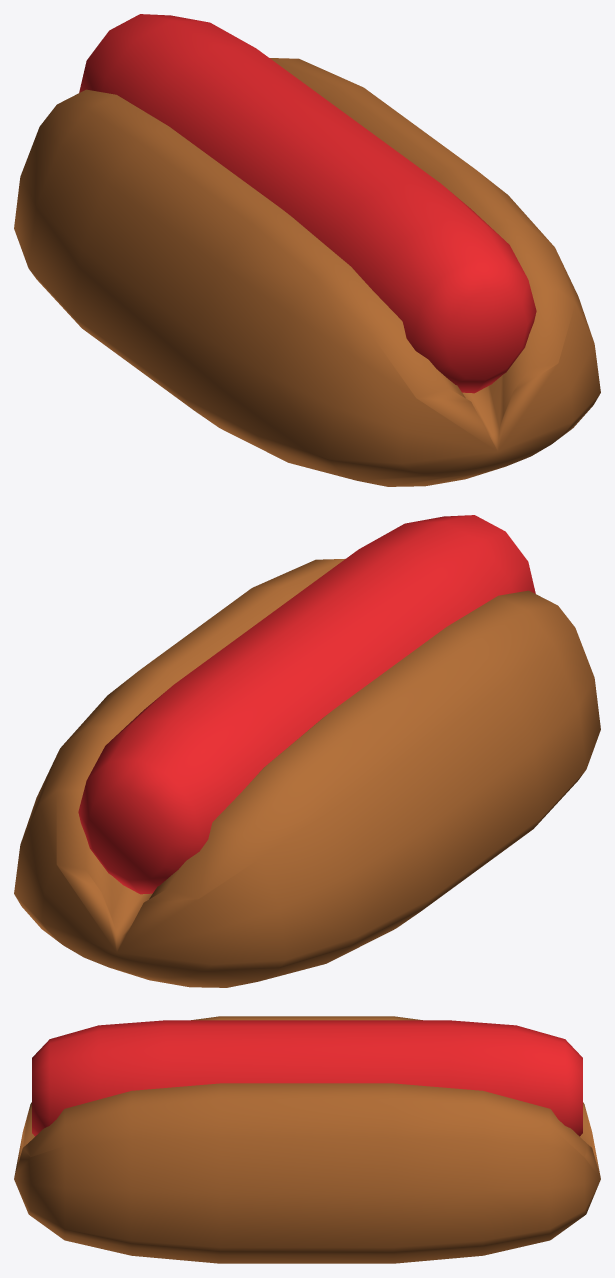
File: perro.fbx
The picture shows the model from 3 angles, top to bottom: view 1: azimuth 30°, elevation 25°; view 2: azimuth 150°, elevation 25°; view 3: azimuth 270°, elevation 25°; orthographic projection. The views are drawn at different scales.
Parts seen in each view (by area): view 1: Cylinder.024, Cylinder.025; view 2: Cylinder.024, Cylinder.025; view 3: Cylinder.024, Cylinder.025.
Boxes of the visible parts, x1,y1,x2,y2 form: Cylinder.024: (14, 58, 600, 486); Cylinder.025: (79, 14, 536, 393); Cylinder.024: (14, 559, 600, 987); Cylinder.025: (78, 515, 535, 894); Cylinder.024: (14, 1016, 600, 1263); Cylinder.025: (32, 1020, 582, 1136).
Bounding box in the file's own units: 102 × 74.75 × 189.
